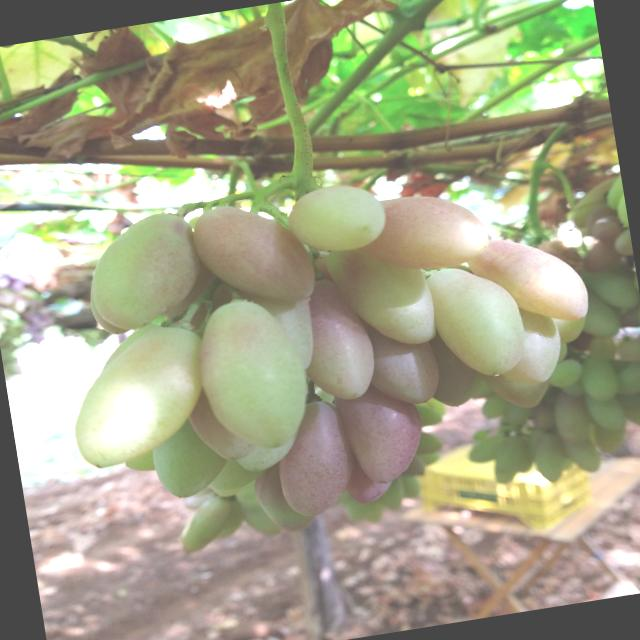grapes: (59, 322, 214, 471), (190, 292, 318, 457), (188, 192, 324, 318), (84, 211, 204, 333), (351, 183, 493, 281), (424, 257, 531, 384), (467, 230, 592, 334), (326, 245, 439, 352), (290, 286, 380, 405), (331, 384, 429, 492), (270, 396, 354, 522), (289, 178, 389, 258), (362, 324, 446, 412), (152, 424, 228, 502), (502, 308, 564, 388), (173, 494, 243, 555), (424, 352, 477, 412), (228, 434, 299, 476), (488, 369, 548, 416), (578, 352, 621, 406), (234, 496, 285, 540), (552, 390, 592, 446), (578, 292, 622, 342), (590, 269, 640, 313), (534, 434, 568, 486), (587, 393, 628, 436), (564, 438, 602, 476), (466, 432, 508, 466), (503, 434, 538, 474), (122, 442, 166, 472), (583, 239, 623, 272), (549, 357, 585, 390), (590, 216, 628, 243), (602, 170, 626, 209), (620, 393, 640, 435), (610, 226, 634, 260), (618, 357, 640, 391), (494, 458, 518, 483)
